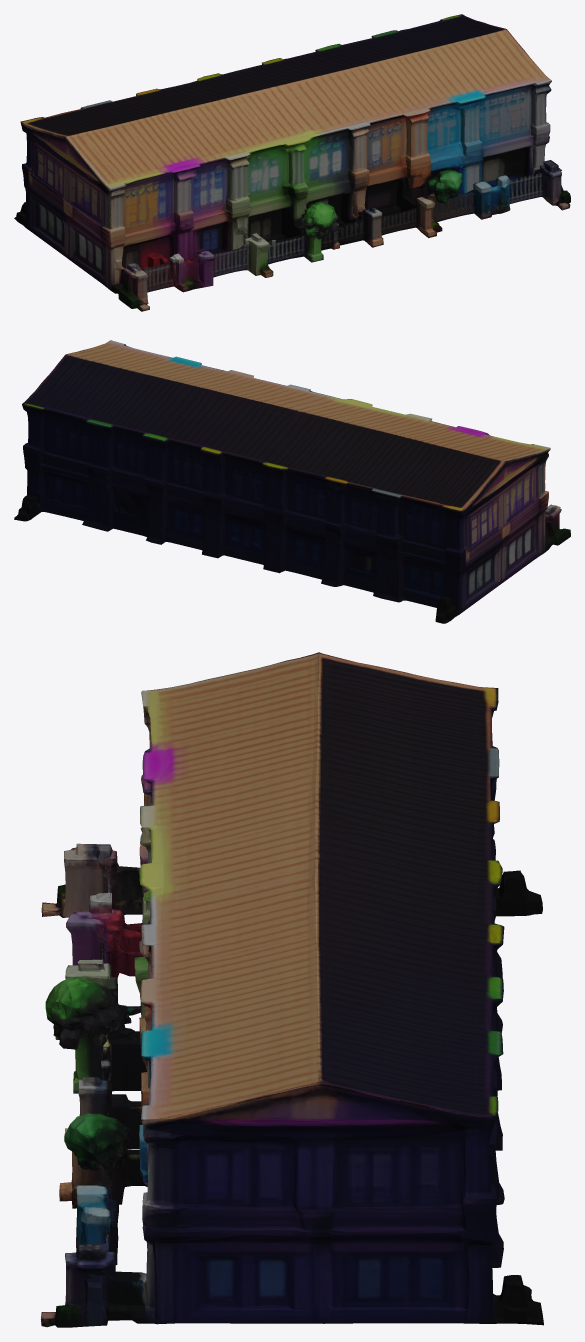
The model's file is sg_shops_high01.glb.
3 views of the same model, one above another, from view 1: azimuth 30°, elevation 25°; view 2: azimuth 150°, elevation 25°; view 3: azimuth 270°, elevation 25° (orthographic). The views are drawn at different scales.
Visible parts, largest first — view 1: world; view 2: world; view 3: world.
Part boxes in pixels (x1,y1,x2,y2): world: (14, 14, 570, 311); world: (14, 340, 570, 623); world: (41, 652, 543, 1327).
Bounding box in the file's own units: 1 × 0.2735 × 0.4949.
1 material, 1 textured.
